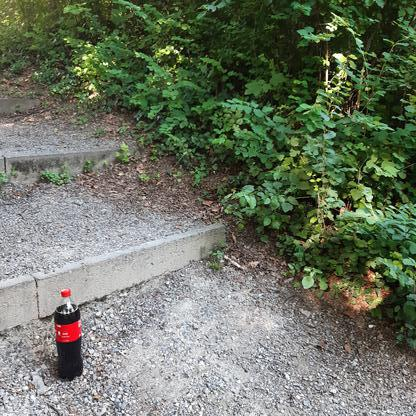coca-cola: (53, 287, 85, 383)
